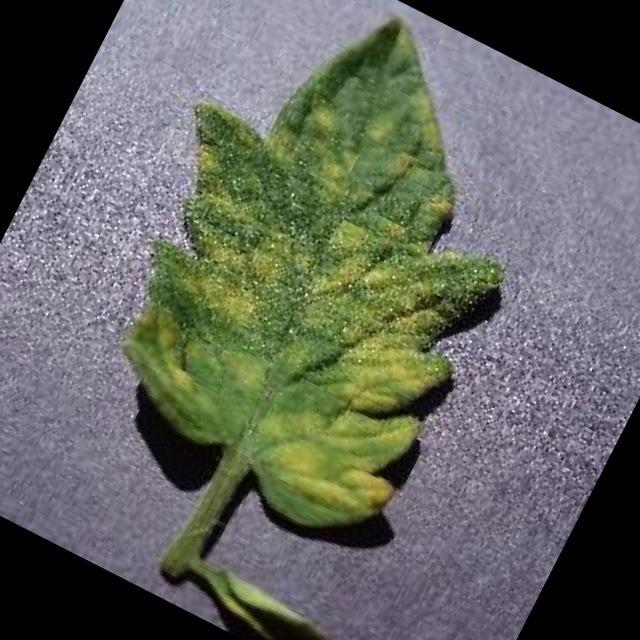Tomato mold leaf: (42, 0, 594, 563)
